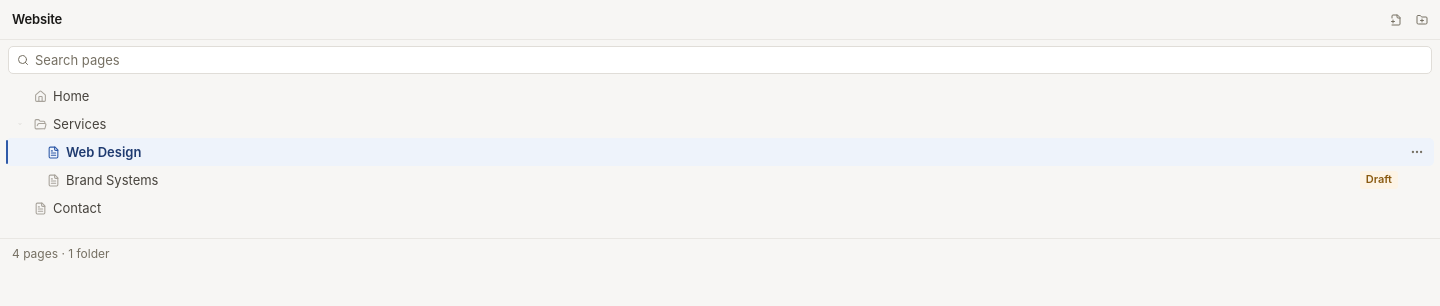
website explorer › creates a page by typing the name in the tree
Click the button named "New page".
click(1396, 20)  # box [1384,8,1408,32]
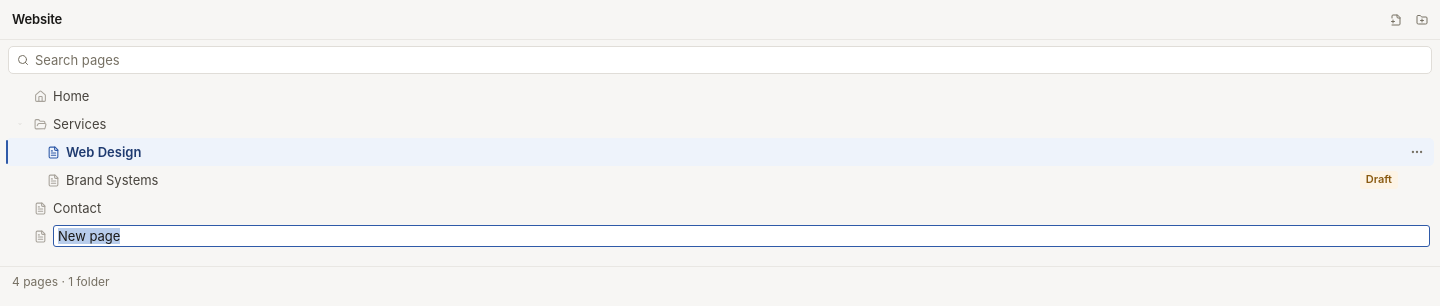
Expected: the field named "Rename New page" is shown, [53,225,1430,247]
